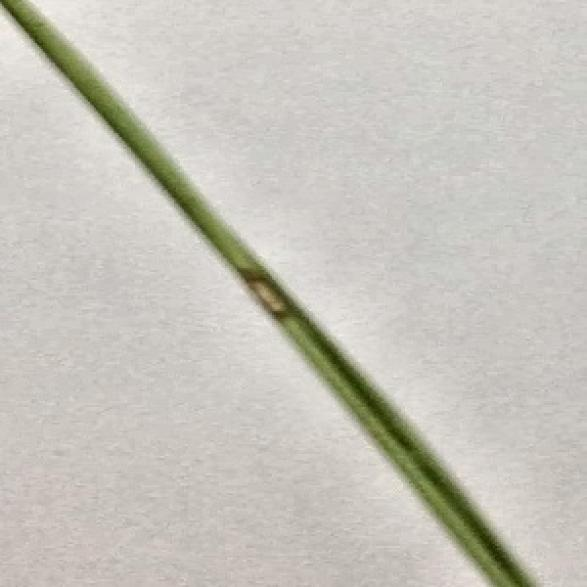Leaf_smut: (237, 260, 301, 321)
